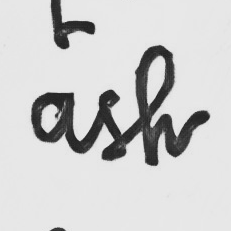a: (28, 88, 77, 150)
h: (133, 42, 182, 167)
s: (94, 87, 131, 162)
